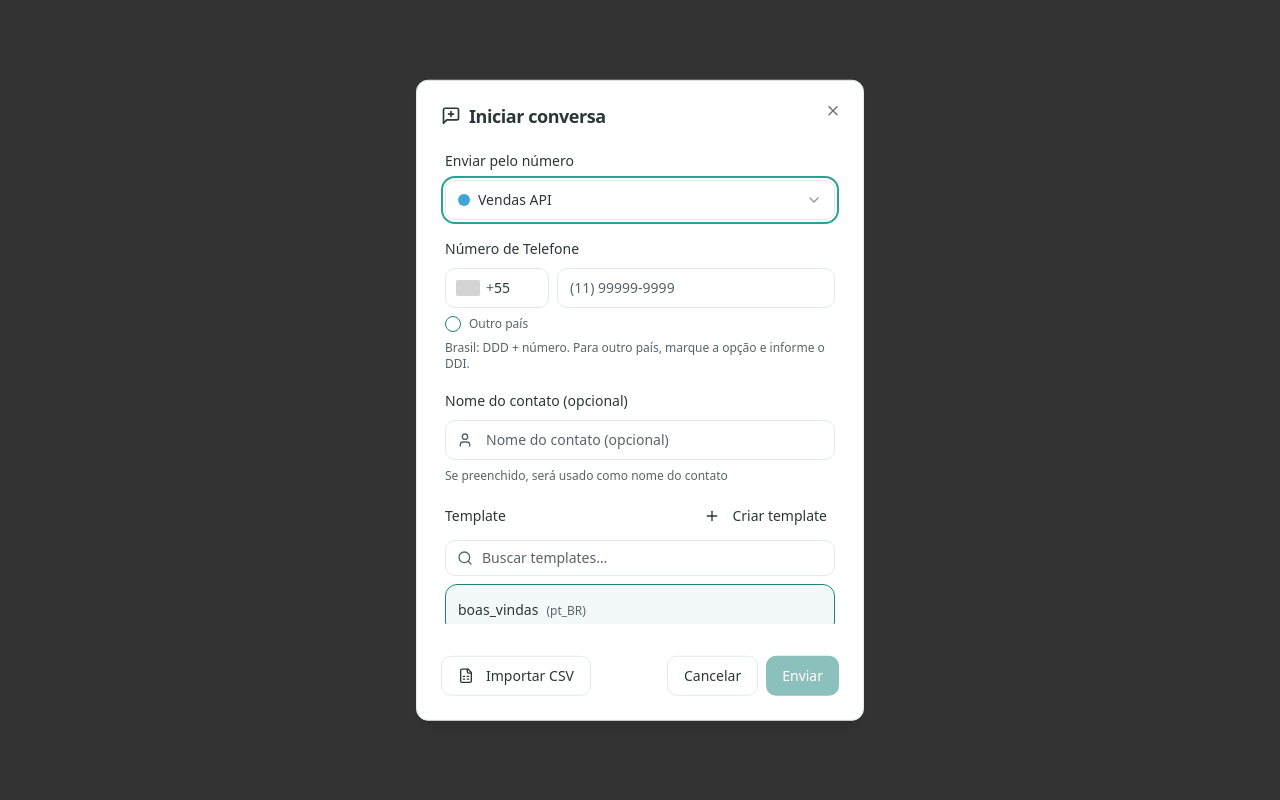
Scenario: StartConversationDialog: Enviar pelo número › número de API oficial pede template, e não mostra o campo de texto livre
The width and height of the screenshot is (1280, 800).
Expected: the field with placeholder "Digite sua mensagem…" is not shown
# Trocar para um número QR vira texto livre.
Click the dropdown named "Enviar pelo número" at coordinates (515, 199), box [445, 179, 835, 219]
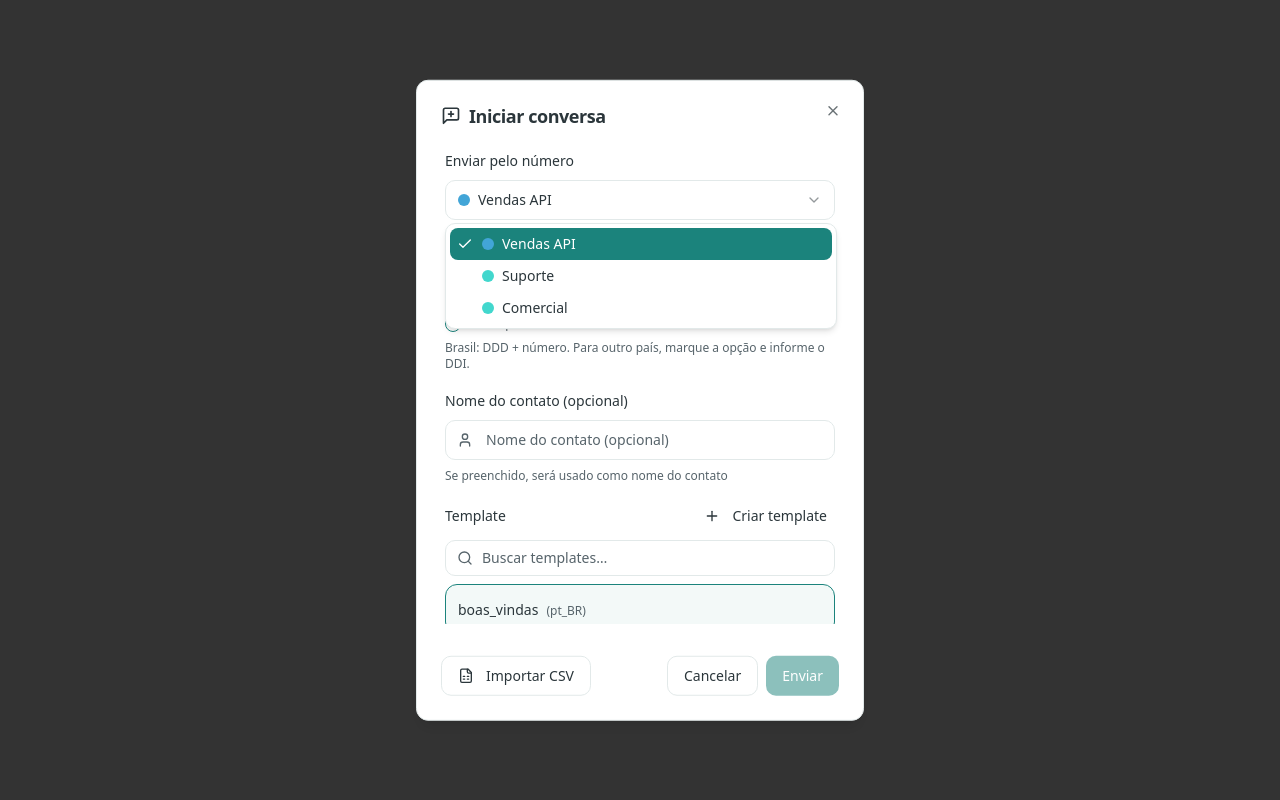
Click the option "Suporte" at coordinates (518, 276), box [482, 266, 554, 285]
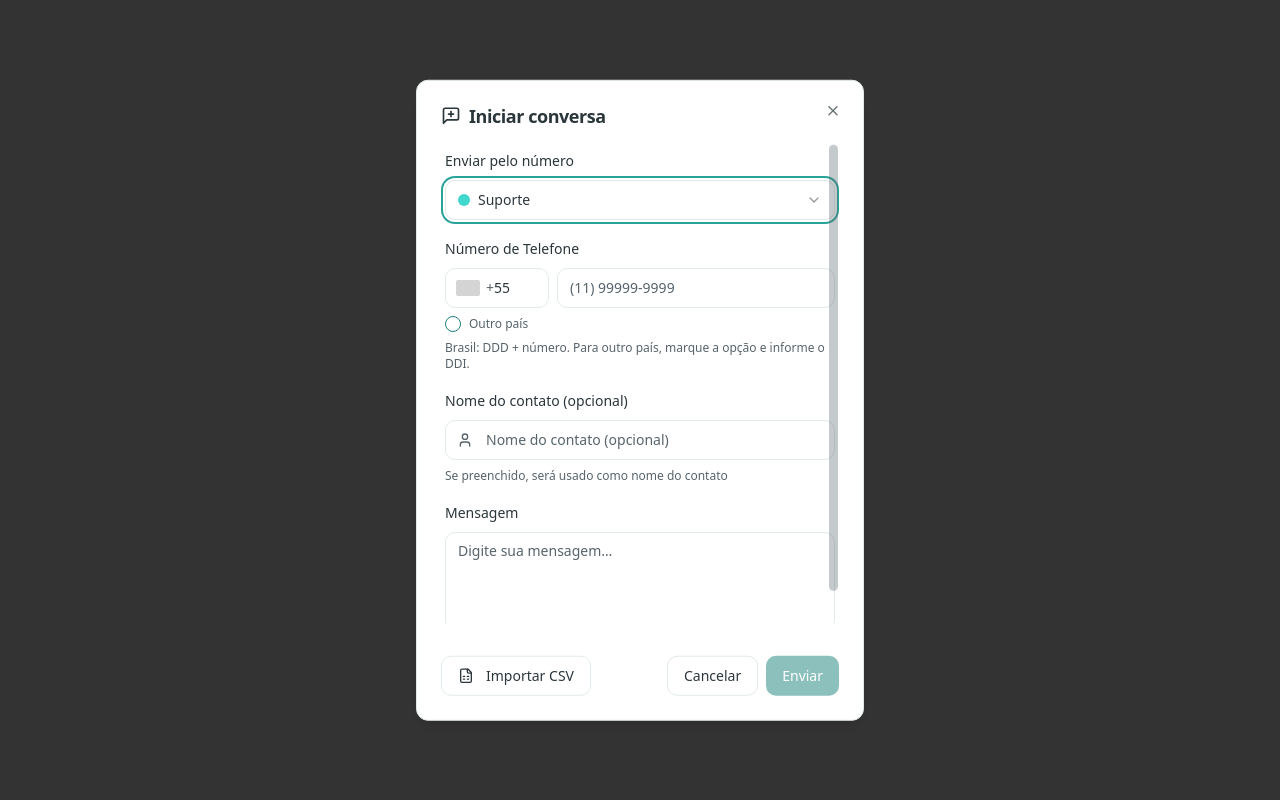
Result: the text box with placeholder "Digite sua mensagem…" is shown at [445, 531, 835, 623]
